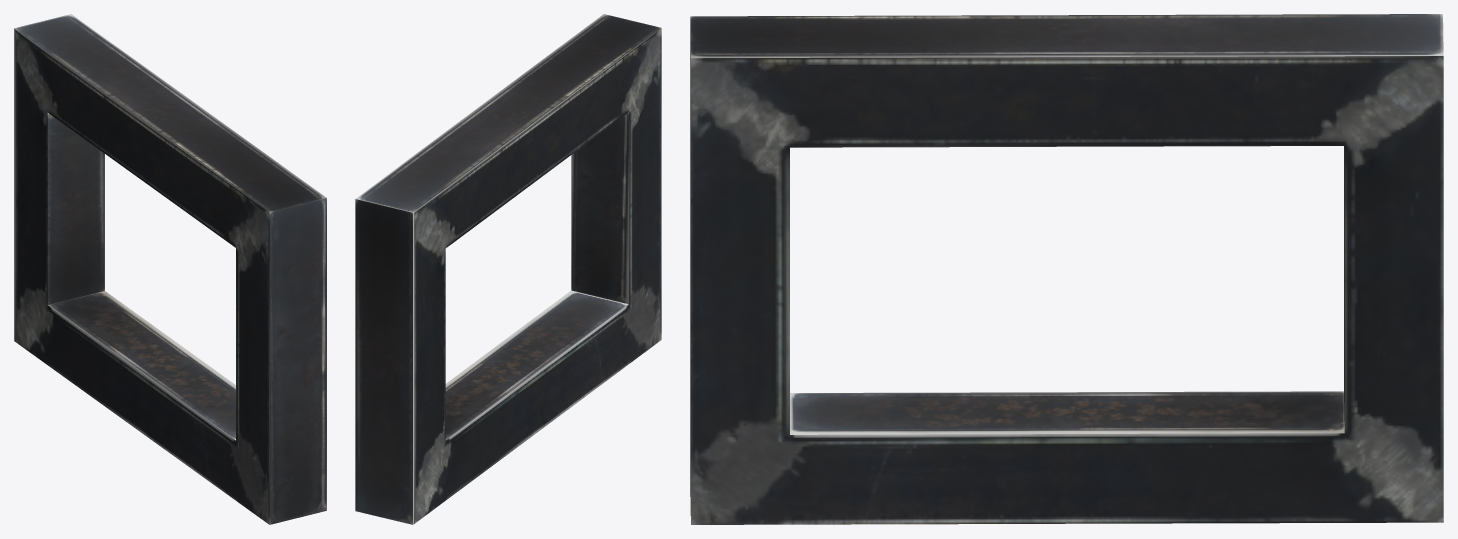
The model's file is park_jiwon.glb.
3 views of the same model, side by side, from view 1: azimuth 30°, elevation 25°; view 2: azimuth 150°, elevation 25°; view 3: azimuth 270°, elevation 25° (orthographic). The views are drawn at different scales.
Visible parts, largest first — view 1: Group1; view 2: Group1; view 3: Group1.
Boxes of the visible parts, x1=… form: Group1: x1=14, y1=14, x2=326, y2=524; Group1: x1=355, y1=14, x2=661, y2=524; Group1: x1=690, y1=14, x2=1443, y2=524.
Bounding box in the file's own units: 2.9 × 14.26 × 20.87.
Materials: 1 (1 with a texture image).
